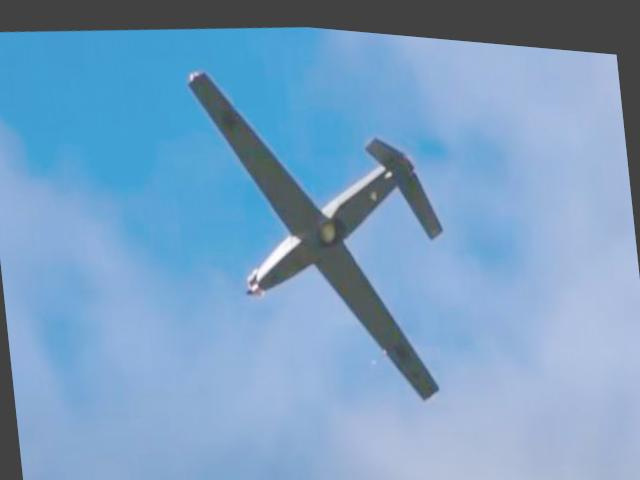iha: (180, 35, 464, 420)
